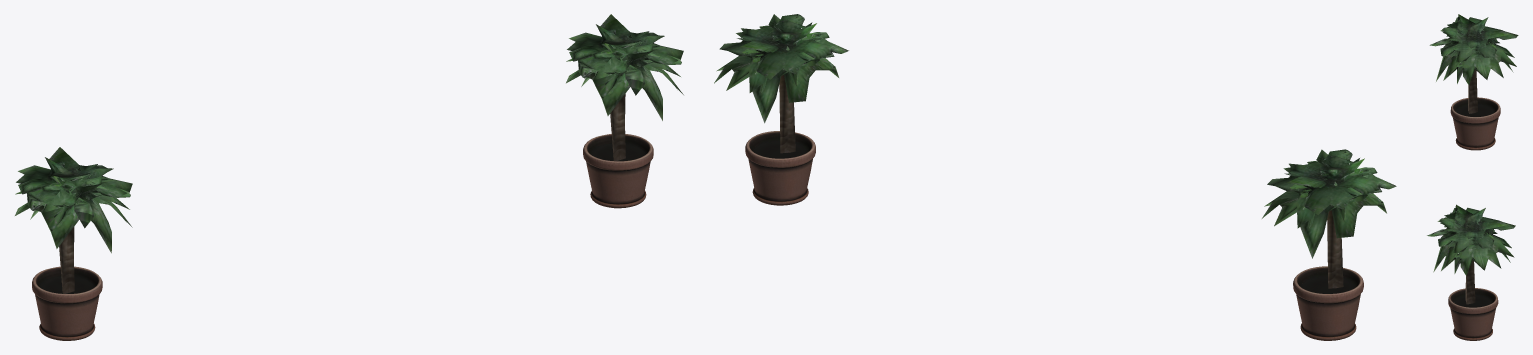
File: palmeras.obj
The picture shows the model from 3 angles, left to right: view 1: azimuth 30°, elevation 25°; view 2: azimuth 150°, elevation 25°; view 3: azimuth 270°, elevation 25°; orthographic projection. The views are drawn at different scales.
Visible parts, largest first — view 1: caja:Mesh2; view 2: caja:Mesh2; view 3: caja:Mesh2.
Part boxes in pixels (x1=…): caja:Mesh2: x1=15, y1=14, x2=683, y2=340; caja:Mesh2: x1=714, y1=14, x2=1396, y2=340; caja:Mesh2: x1=1427, y1=14, x2=1518, y2=340.
Size of the model in its own units: 10.81 by 2.66 by 1.84.
4 materials, 4 textured.
